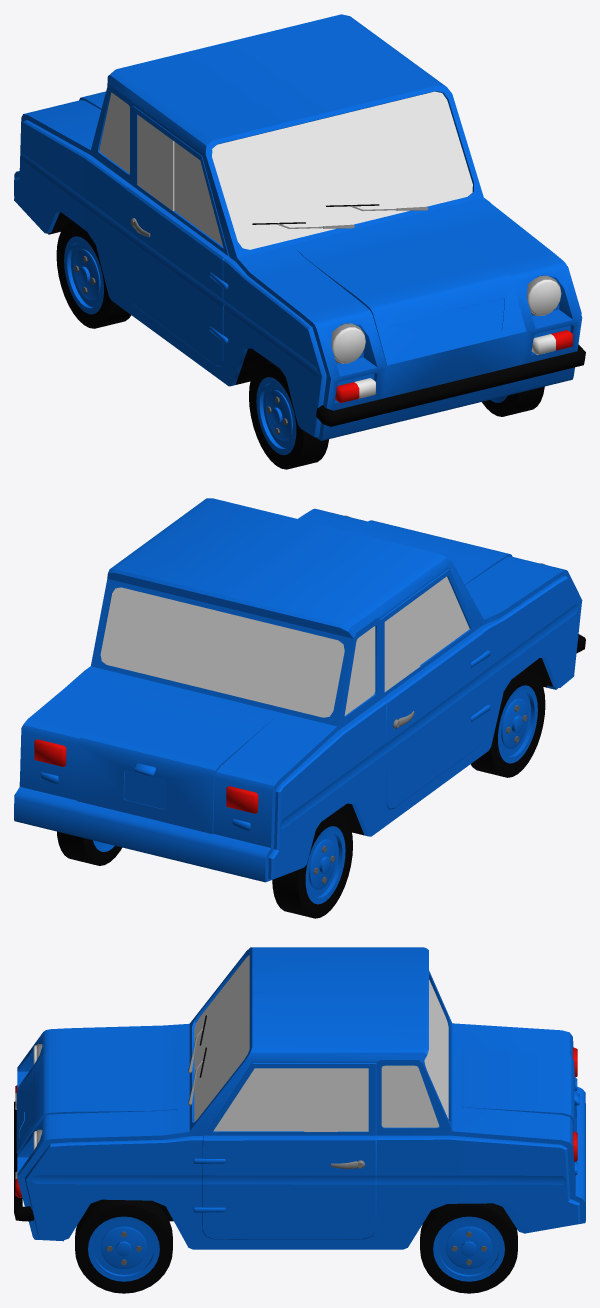
The model's file is Car.fbx.
The picture shows the model from 3 angles, top to bottom: view 1: azimuth 30°, elevation 25°; view 2: azimuth 150°, elevation 25°; view 3: azimuth 270°, elevation 25°; orthographic projection. The views are drawn at different scales.
Visible parts, largest first — view 1: Car; view 2: Car; view 3: Car.
Part boxes in pixels (bbox=[...]): Car: bbox=[14, 14, 585, 469]; Car: bbox=[14, 498, 585, 918]; Car: bbox=[14, 947, 585, 1293].
Size of the model in its own units: 146 by 140 by 298.
